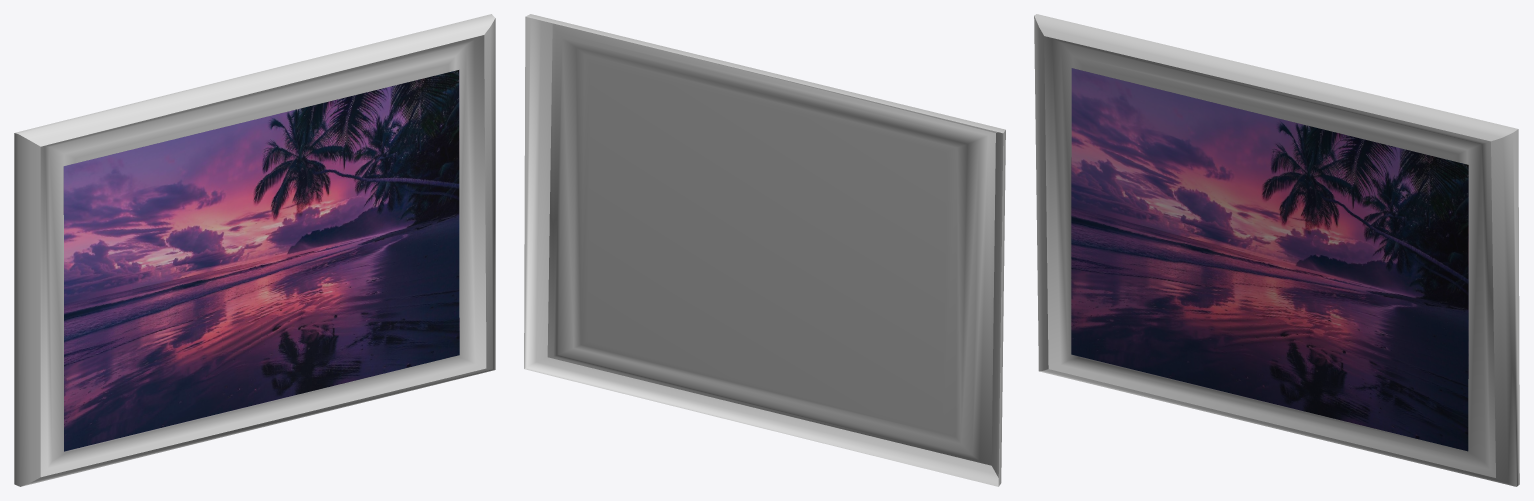
File: barbie cuadro3.fbx
The picture shows the model from 3 angles, left to right: view 1: azimuth 30°, elevation 25°; view 2: azimuth 150°, elevation 25°; view 3: azimuth 330°, elevation 25°; orthographic projection.
Visible parts, largest first — view 1: pPlane3, cadre_lowpoly; view 2: cadre_lowpoly; view 3: pPlane3, cadre_lowpoly.
Boxes of the visible parts, x1=… form: pPlane3: x1=63, y1=70, x2=459, y2=451; cadre_lowpoly: x1=14, y1=14, x2=495, y2=486; cadre_lowpoly: x1=524, y1=14, x2=1005, y2=486; pPlane3: x1=1071, y1=68, x2=1468, y2=451; cadre_lowpoly: x1=1034, y1=14, x2=1519, y2=486.
Bounding box in the file's own units: 21.85 × 15.45 × 0.9384.
Materials: 2 (1 with a texture image).
